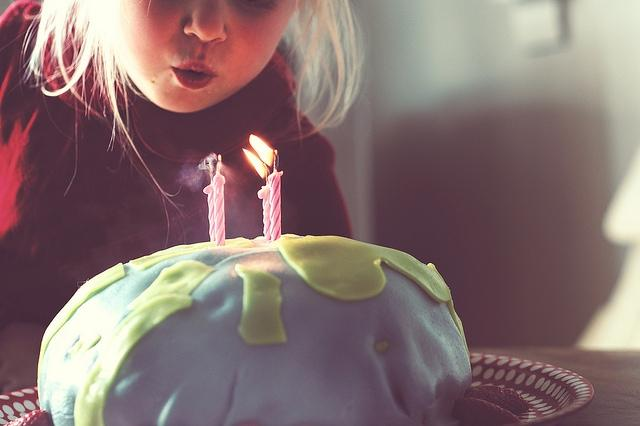strawberry: (462, 386, 530, 414), (452, 398, 520, 426), (3, 410, 50, 426)
